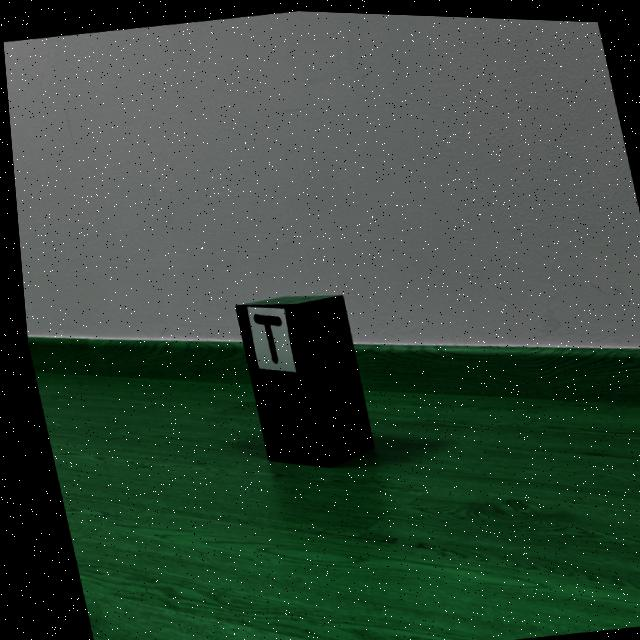T: (249, 312, 276, 361)
